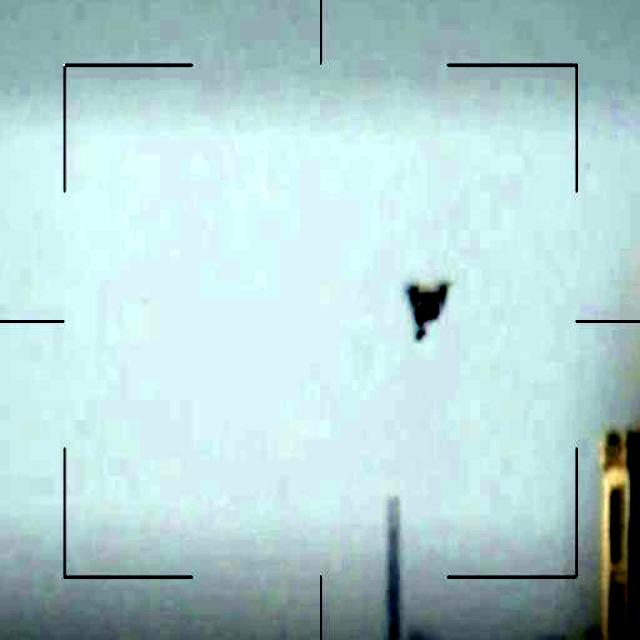bird: (404, 271, 456, 348)
